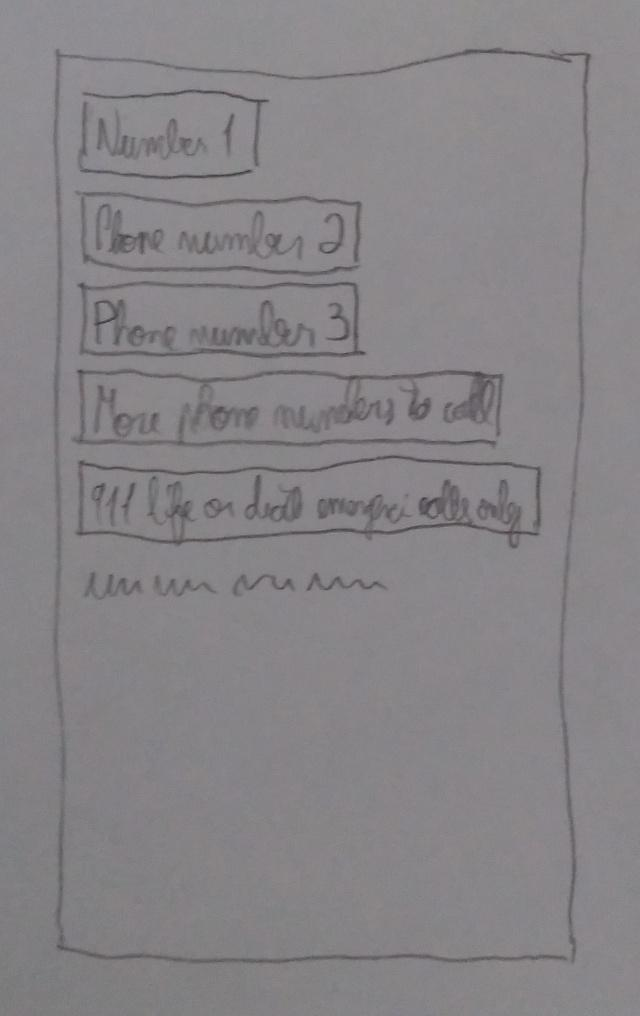Button: (76, 454, 542, 543), (79, 367, 504, 446), (82, 190, 362, 275), (79, 279, 359, 359), (80, 89, 260, 179)
Label: (85, 572, 391, 598)
Screen: (55, 49, 590, 962)
